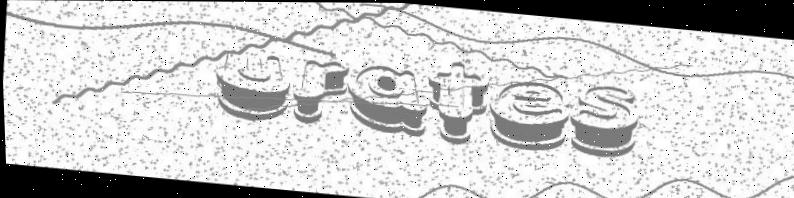a: (345, 62, 431, 138)
e: (486, 78, 573, 153)
r: (291, 58, 351, 127)
s: (566, 82, 640, 159)
t: (423, 59, 491, 146)
u: (214, 50, 293, 124)
